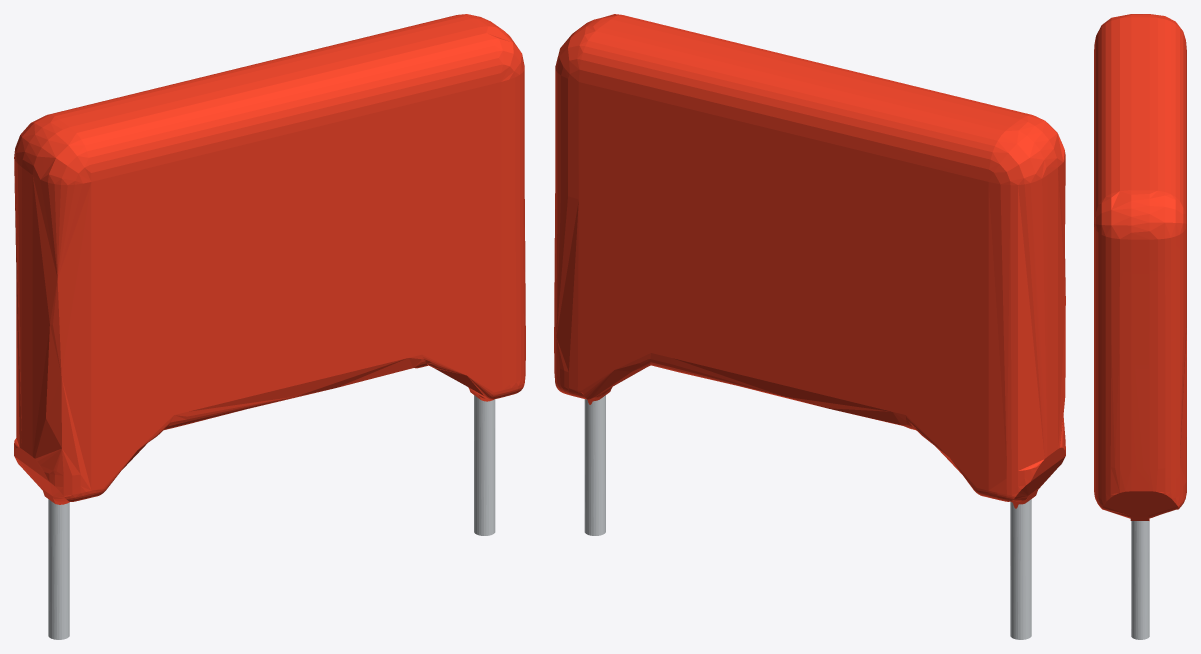
File: CAP-104-600V.obj
3 views of the same model, side by side, from view 1: azimuth 30°, elevation 25°; view 2: azimuth 150°, elevation 25°; view 3: azimuth 270°, elevation 25° (orthographic). The views are drawn at different scales.
Parts seen in each view (by area): view 1: CAP-104-600V; view 2: CAP-104-600V; view 3: CAP-104-600V.
Part boxes in pixels (box(x1,y1,x2,y2)): CAP-104-600V: box(14, 14, 525, 639); CAP-104-600V: box(554, 14, 1065, 639); CAP-104-600V: box(1094, 14, 1186, 639).
Bounding box in the file's own units: 0.0207 × 0.0208 × 0.00397.
